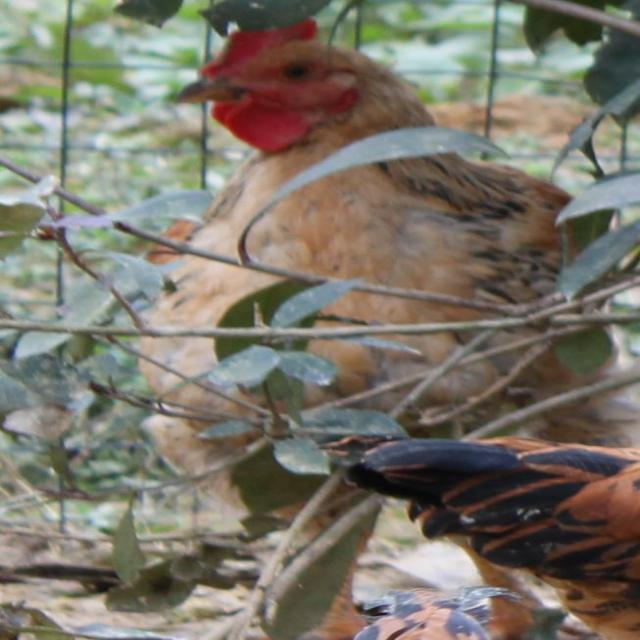hen: (110, 0, 436, 268), (245, 125, 575, 312), (306, 332, 519, 418), (149, 257, 277, 330), (322, 286, 488, 340), (487, 338, 602, 412), (143, 414, 259, 483), (143, 339, 217, 375)
